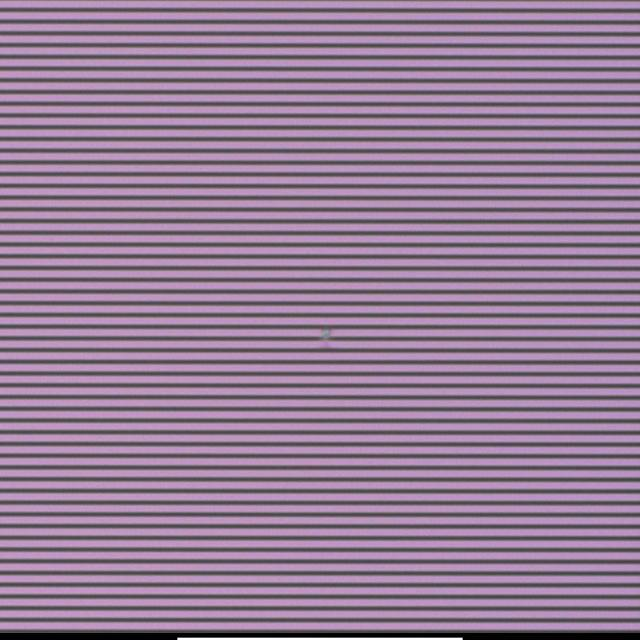nonvisual: (316, 320, 341, 350)
